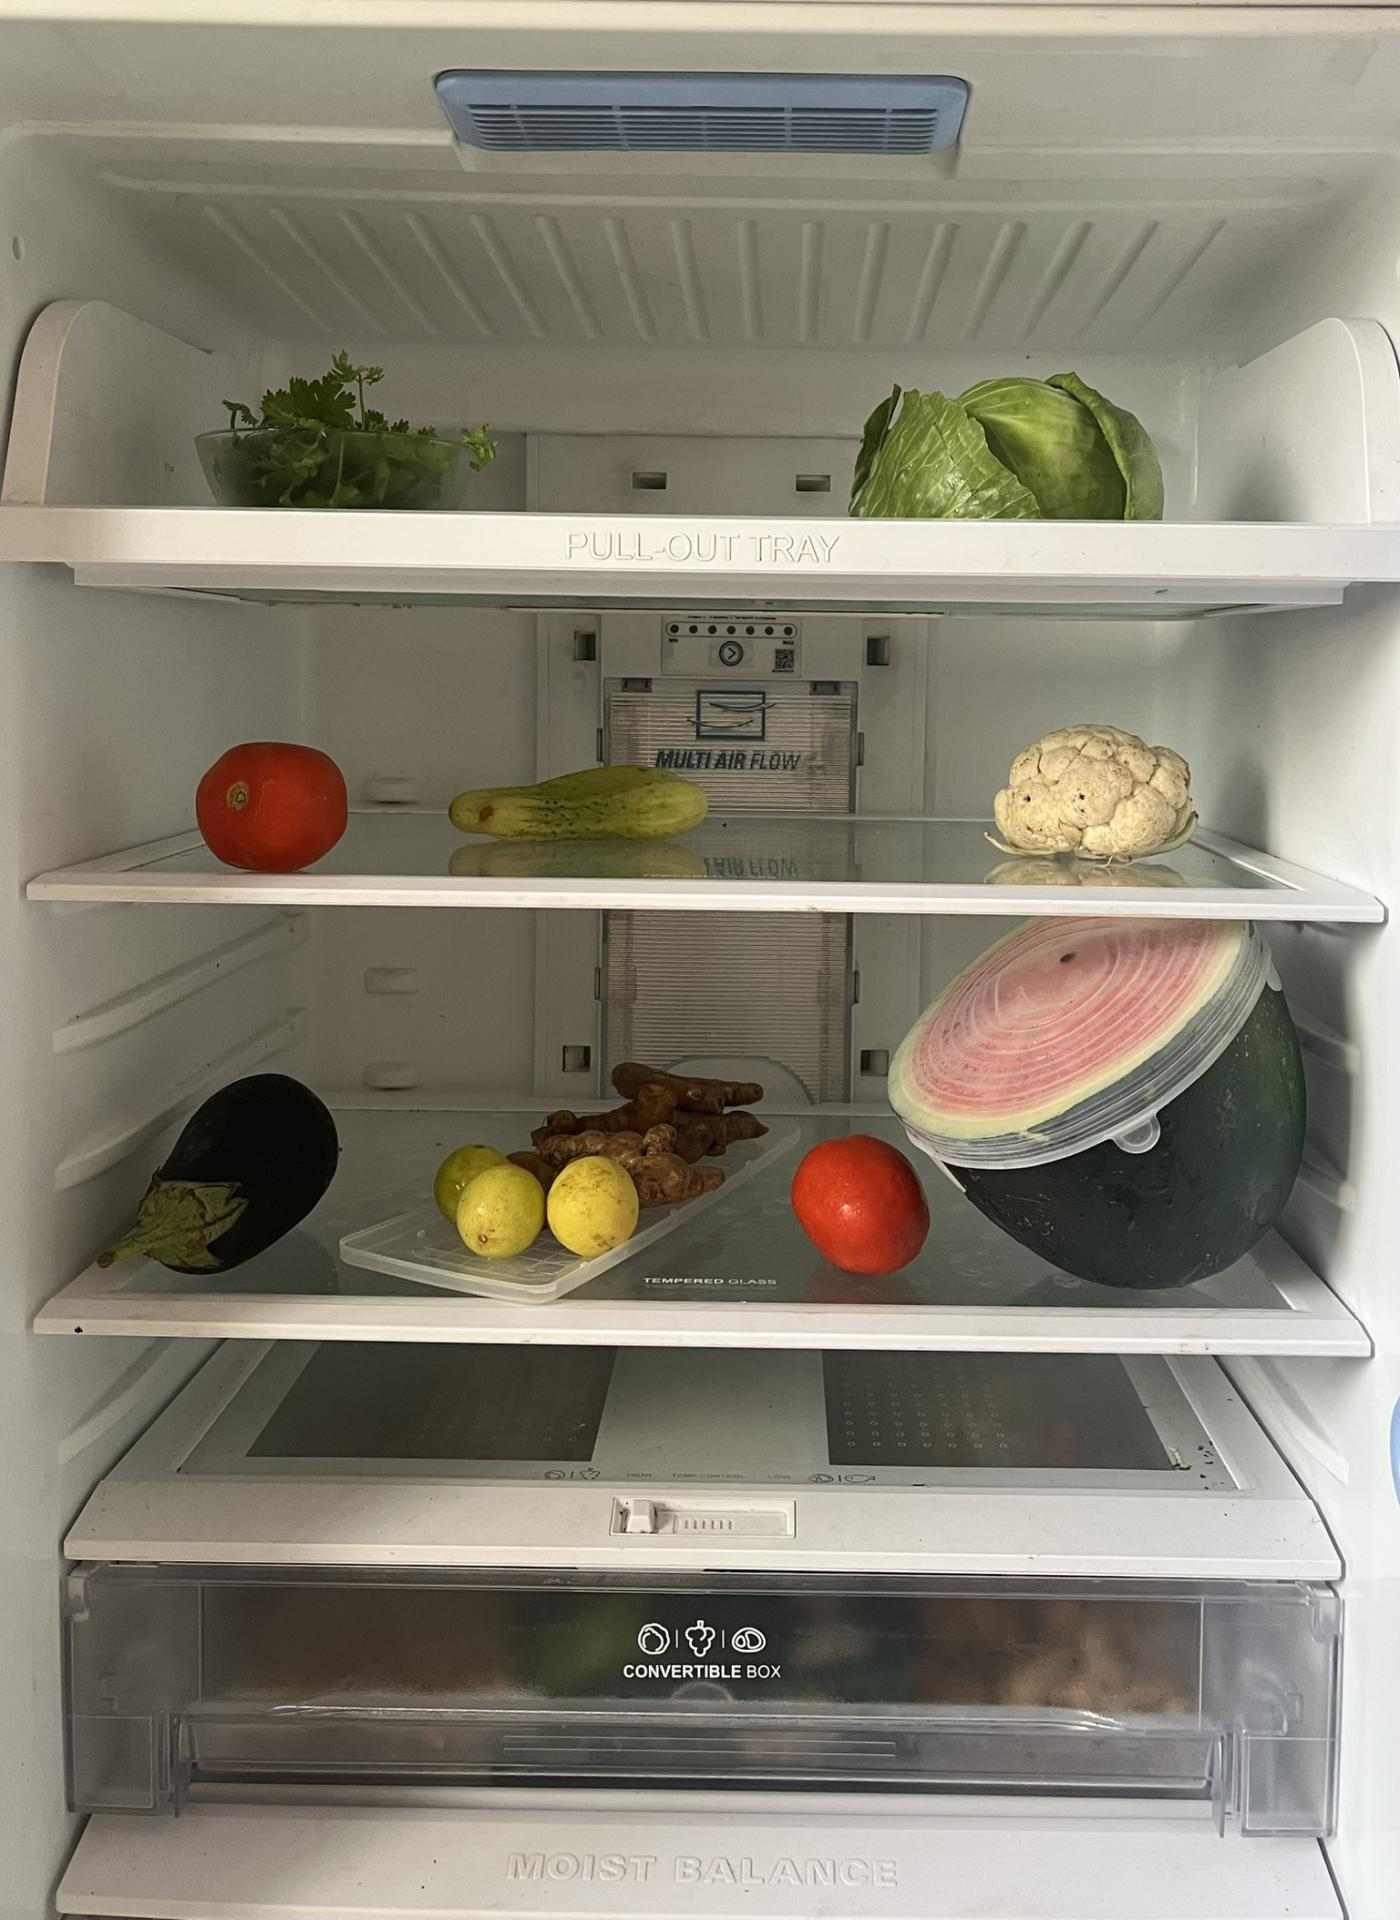cabbage: (859, 358, 1170, 511)
cauliflower: (999, 714, 1194, 862)
cucumber: (206, 349, 480, 502), (449, 756, 711, 850)
ginger: (535, 1046, 757, 1163)
lemon: (429, 1136, 649, 1269)
tomato: (197, 738, 350, 871), (804, 1136, 936, 1266)
watermelon: (895, 930, 1311, 1291)
